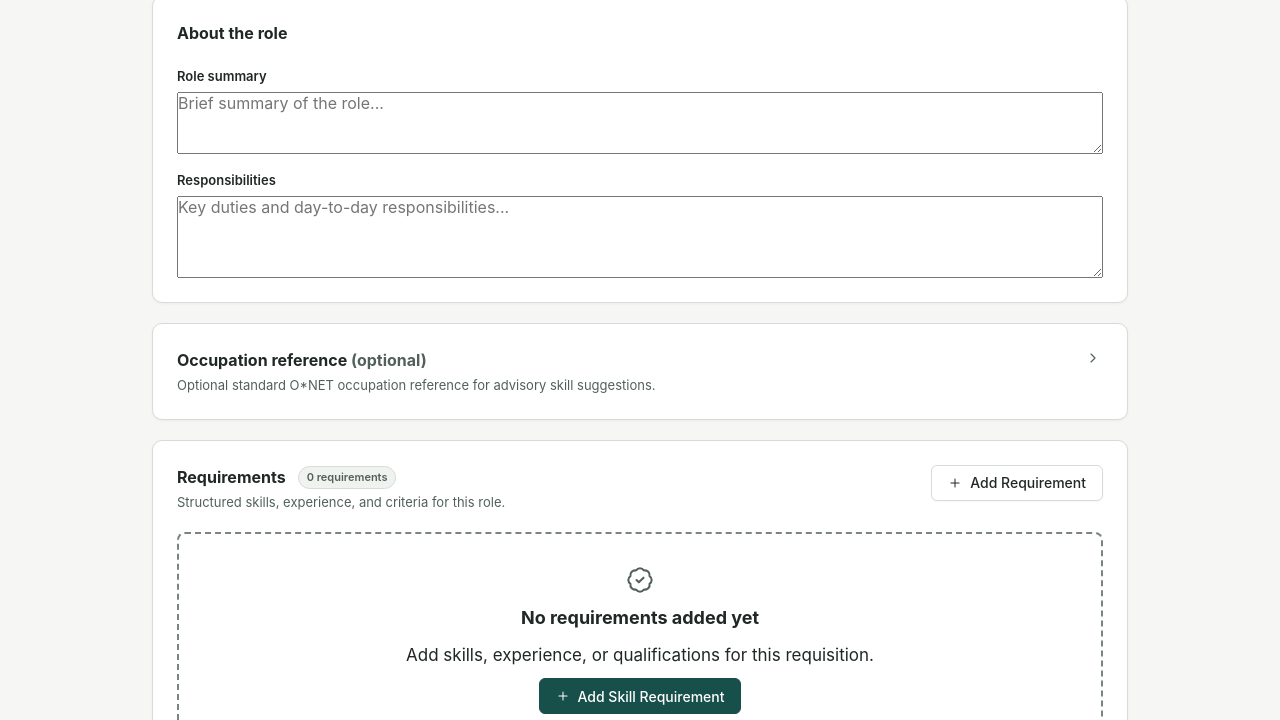
Test case: Phase 2B.3: Jobs Workspace & Requirement Builder › defaults optional occupation and requirement details to collapsed, hides custom weight, and handles zero criteria state
(page scrolled)
Expected: the field labelled "Search O*NET occupation reference" is not shown
Expand occupation disclosure
Click the heading "Occupation reference (optional)": [302, 360] box left=177, top=350, right=427, bottom=370
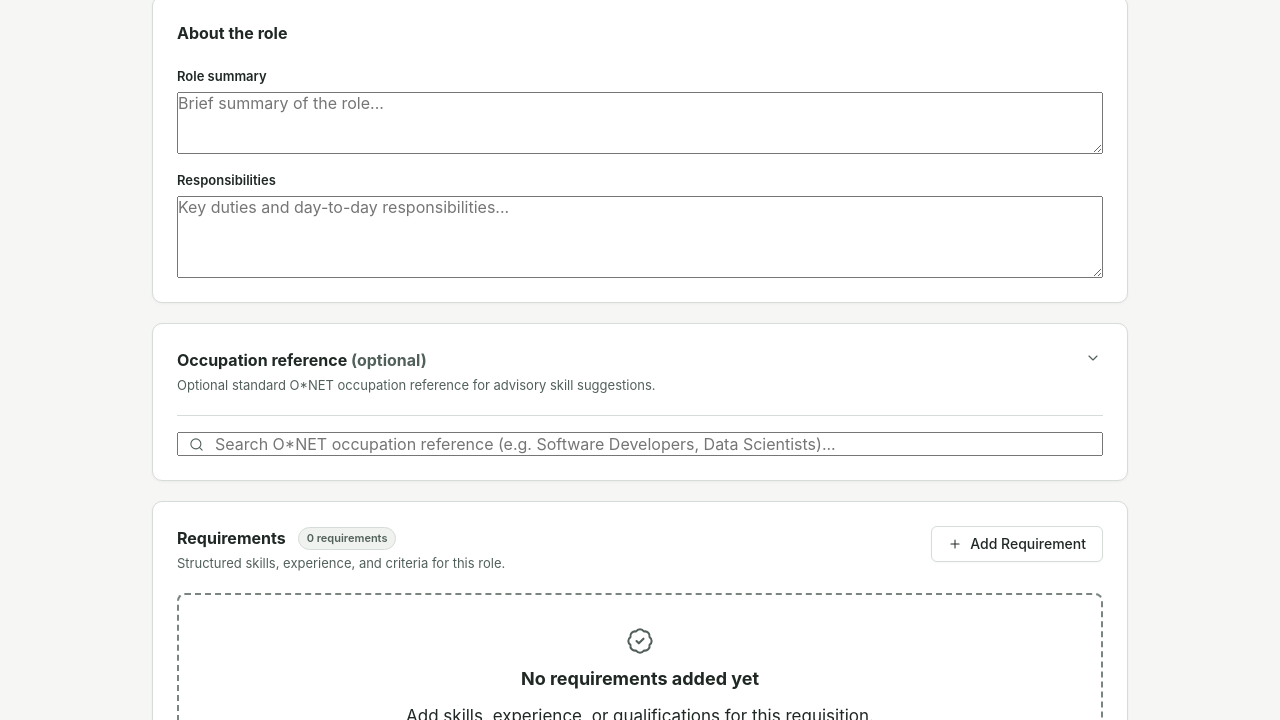
Result: the field labelled "Search O*NET occupation reference" is shown at left=177, top=432, right=1103, bottom=456
Add a requirement
Click the button "Add Requirement": [1017, 544] box left=931, top=526, right=1103, bottom=562
(page scrolled)
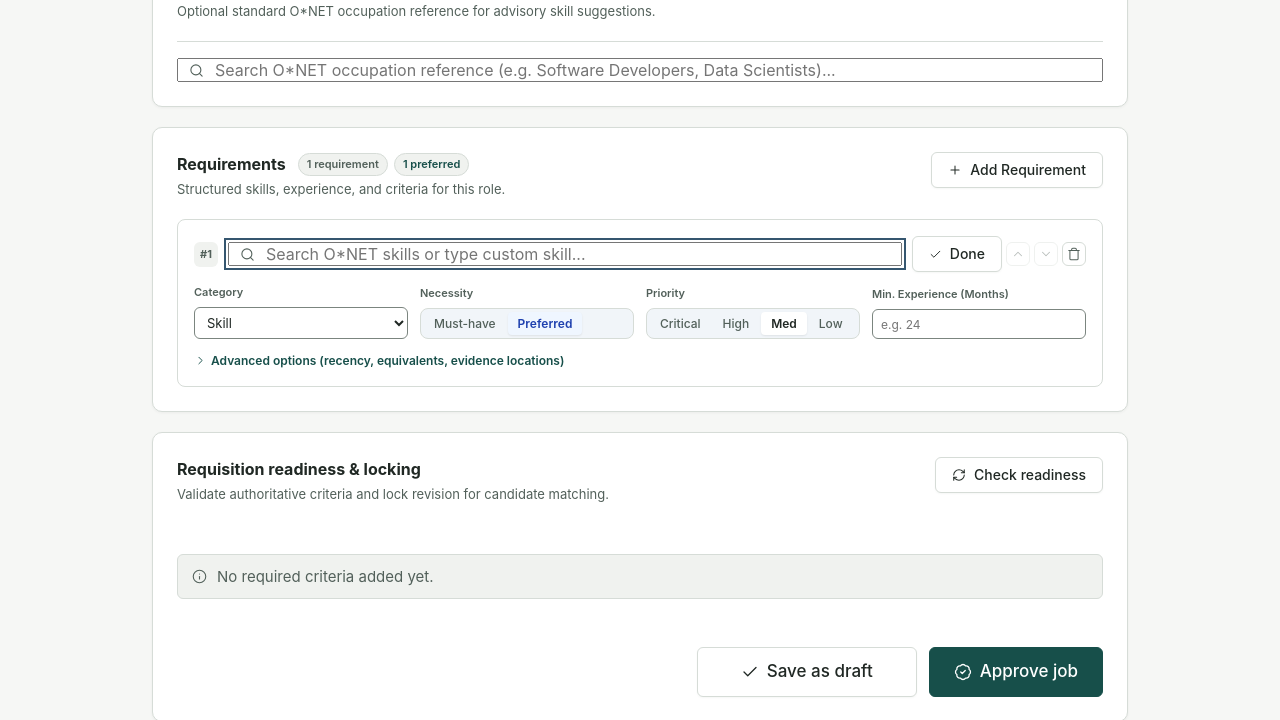
Expected: the text "Accepted Evidence Locations" is not shown
Result: the text "Advanced options (recency, equivalents, evidence locations)" is shown at left=211, top=353, right=564, bottom=368
Expand Advanced options
Click the button "Advanced options (recency, equivalents, evidence locations)": [379, 361] box left=194, top=351, right=564, bottom=370
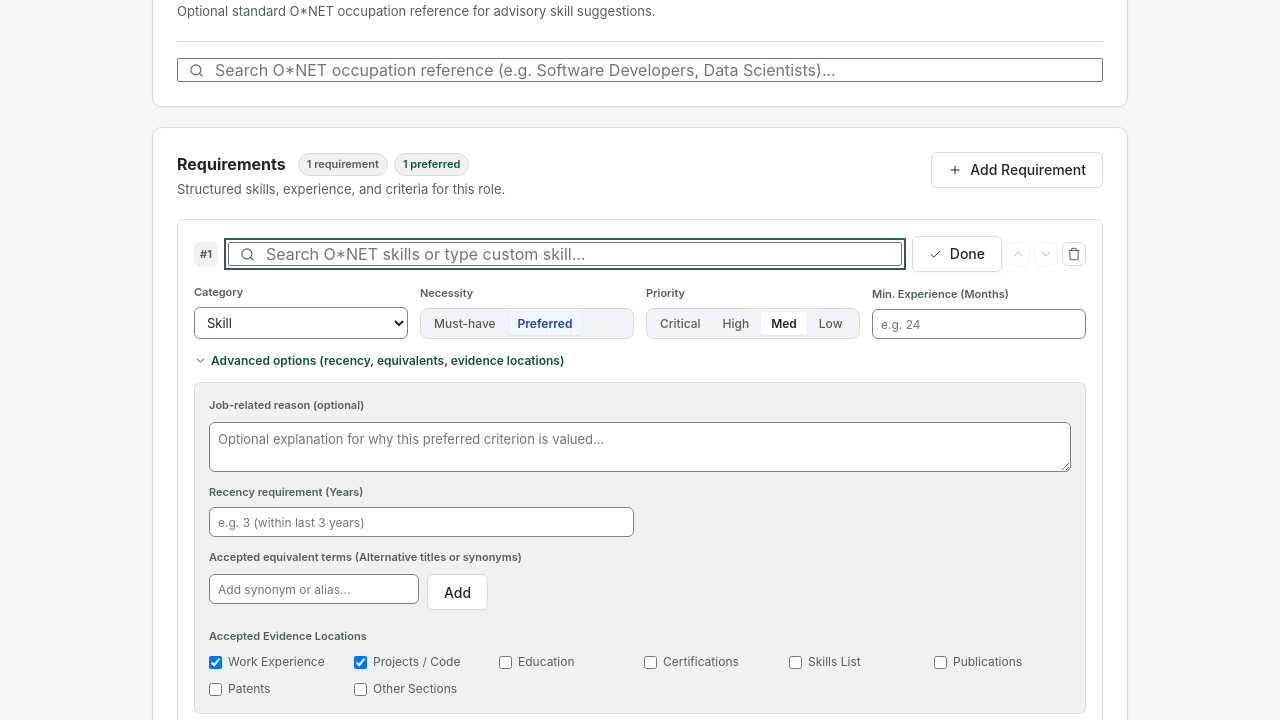
Result: the text "Accepted Evidence Locations" is shown at left=209, top=629, right=367, bottom=643
